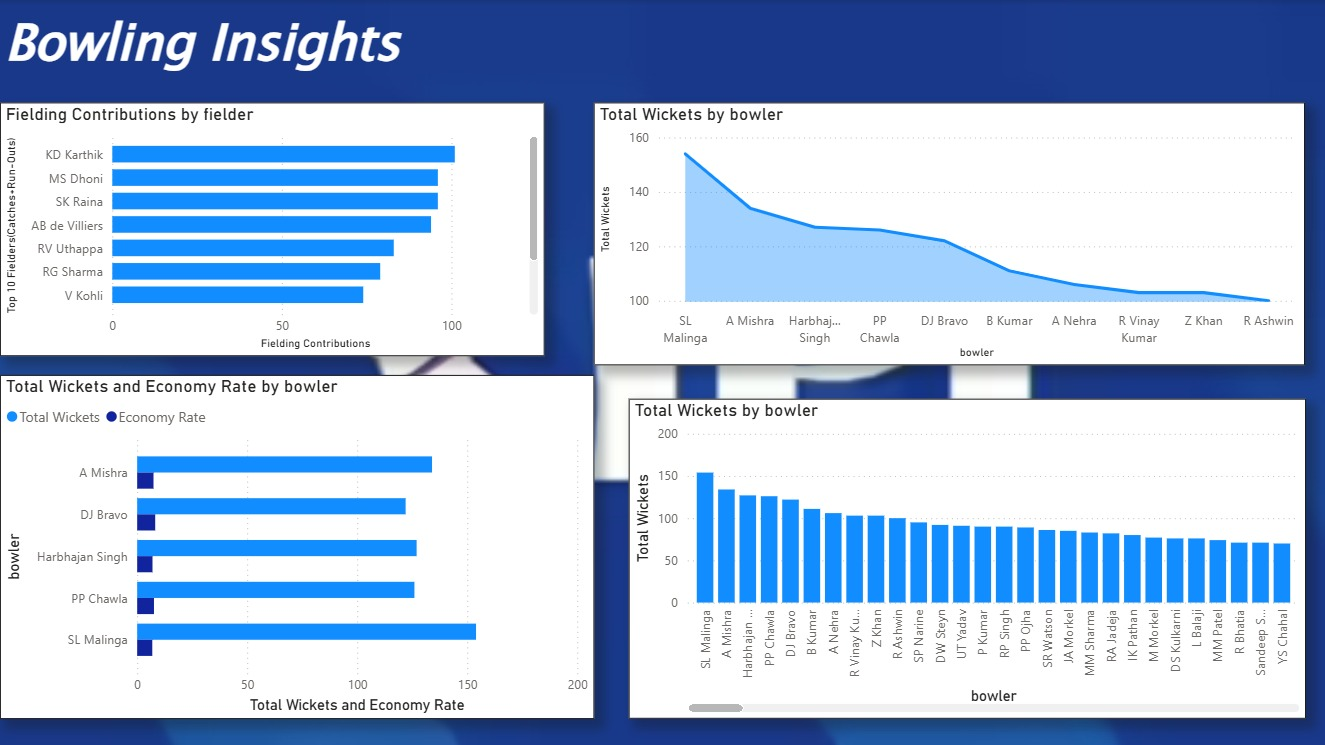

This screenshot's page, from the dashboard's own definition file:
{"tool":"powerbi","page":{"name":"Bowling Insights","canvas":[1280,720],"ordinal":2},"visuals":[{"type":"areaChart","fields":{"Category":["deliveries - deliveries csv.bowler"],"Y":["Measures (3).Total Wickets"]},"box":[573.5,98.5,686.8,253.5],"z":0},{"type":"clusteredBarChart","fields":{"Category":["deliveries - deliveries csv.bowler"],"Y":["Measures (3).Total Wickets","Measures (3).Economy Rate"]},"box":[0,361.8,573.5,332.3],"z":1000},{"type":"clusteredColumnChart","fields":{"Category":["deliveries - deliveries csv.bowler"],"Y":["Measures (3).Total Wickets"]},"box":[606.8,385.2,653.5,308.9],"z":2000},{"type":"clusteredBarChart","fields":{"Category":["deliveries - deliveries csv.fielder"],"Y":["Measures (3).Fielding Contributions"]},"box":[0,98.5,525.5,244.9],"z":7000},{"type":"textbox","box":[0,0,819.7,98.5],"z":7001}]}

Visuals, with their boxes in screenshot pixels (x1, y1, x2, y2), scaled from the page's 1280x720 canvas onto the 1325x745 screenshot:
areaChart - deliveries - deliveries csv.bowler x Measures (3).Total Wickets: left=594, top=102, right=1305, bottom=364
clusteredBarChart - deliveries - deliveries csv.bowler x Measures (3).Total Wickets: left=0, top=374, right=594, bottom=718
clusteredColumnChart - deliveries - deliveries csv.bowler x Measures (3).Total Wickets: left=628, top=399, right=1305, bottom=718
clusteredBarChart - deliveries - deliveries csv.fielder x Measures (3).Fielding Contributions: left=0, top=102, right=544, bottom=355
textbox: left=0, top=0, right=849, bottom=102
